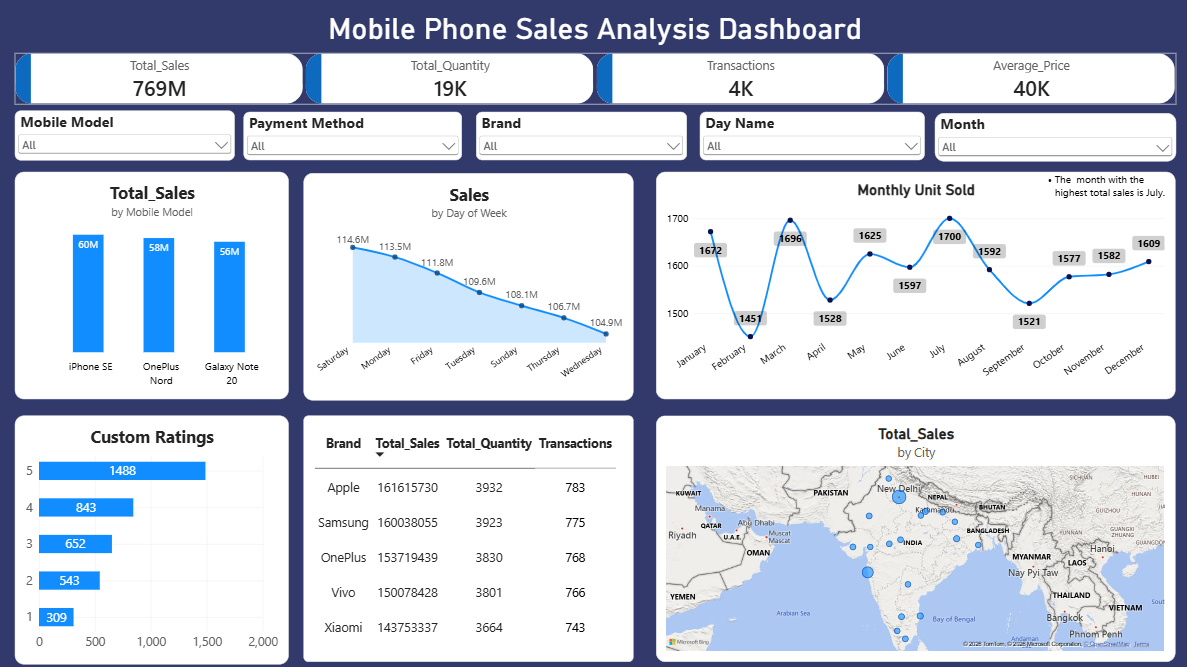

What the dashboard file says about the page in this screenshot:
{"tool":"powerbi","page":{"name":"Page 3","canvas":[1920,1080],"ordinal":2},"visuals":[{"type":"shape","box":[22.4,24.4,341.4,1042.5],"z":0},{"type":"advancedSlicerVisual","fields":{"Values":["Sales_Data2.Date.Variation.Date Hierarchy.Month"]},"box":[34.5,44.7,317,1012],"z":1000},{"type":"cardVisual","fields":{"Data":["Sales_Data2.Total_Sales2","Sales_Data2.Total_Quantity","Sales_Data2.Transactions","Sales_Data2.Average_Price"]},"box":[402.4,24.4,1485.2,94.4],"z":2000},{"type":"lineChart","fields":{"Category":["Sales_Data2.Date.Variation.Date Hierarchy.Month"],"Y":["Sales_Data2.Total_Quantity"]},"box":[1103.5,229.6,784.4,317],"z":3000},{"type":"clusteredColumnChart","title":"Total_Sales","fields":{"Category":["Sales_Data2.Mobile Model"],"Y":["Sales_Data2.Total_Sales2"]},"box":[1489.6,575.1,398.3,223.5],"z":4000},{"type":"pieChart","fields":{"Category":["Sales_Data2.Payment Method"],"Y":["Sales_Data2.Transactions"]},"box":[1103.5,575.1,367.8,223.5],"z":5000},{"type":"clusteredBarChart","title":"Custom Ratings","fields":{"Category":["Sales_Data2.Customer Ratings"],"Y":["CountNonNull(Sales_Data2.Customer Ratings)"]},"box":[1103.7,818.5,368.5,248.1],"z":5001},{"type":"areaChart","title":"Total_Sales","fields":{"Category":["Sales_Data2.Day Name"],"Y":["Sales_Data2.Total_Sales2"]},"box":[1488.9,818.5,398.1,248.1],"z":5002},{"type":"tableEx","fields":{"Values":["Sales_Data2.Brand","Sales_Data2.Total_Sales2","Sales_Data2.Total_Quantity","Sales_Data2.Transactions"]},"box":[401.9,818.5,670.4,248.1],"z":5003},{"type":"slicer","fields":{"Values":["Sales_Data2.Mobile Model"]},"box":[402.4,138.2,367.8,63],"z":5004},{"type":"slicer","fields":{"Values":["Sales_Data2.Payment Method"]},"box":[784.4,140.2,359.7,61],"z":5005},{"type":"slicer","fields":{"Values":["Sales_Data2.Brand"]},"box":[1160.4,142.3,355.6,61],"z":5006},{"type":"slicer","fields":{"Values":["Sales_Data2.Day Name"]},"box":[1530.2,142.3,357.4,61.1],"z":5007},{"type":"map","title":"Total_Sales","fields":{"Category":["Sales_Data2.City"],"Size":["Sales_Data2.Total_Sales2"]},"box":[402.4,229.6,670.6,571],"z":5008}]}

Visuals, with their boxes in screenshot pixels (x1, y1, x2, y2), scaled from the page's 1920x1080 canvas onto the 1187x667 screenshot:
shape: Rect(14, 15, 225, 659)
advancedSlicerVisual - Sales_Data2.Date.Variation.Date Hierarchy.Month: Rect(21, 28, 217, 653)
cardVisual - Sales_Data2.Total_Sales2 x Sales_Data2.Total_Quantity: Rect(249, 15, 1167, 73)
lineChart - Sales_Data2.Date.Variation.Date Hierarchy.Month x Sales_Data2.Total_Quantity: Rect(682, 142, 1167, 338)
"Total_Sales" clusteredColumnChart: Rect(921, 355, 1167, 493)
pieChart - Sales_Data2.Payment Method x Sales_Data2.Transactions: Rect(682, 355, 910, 493)
"Custom Ratings" clusteredBarChart: Rect(682, 505, 910, 659)
"Total_Sales" areaChart: Rect(920, 505, 1167, 659)
tableEx - Sales_Data2.Brand x Sales_Data2.Total_Sales2: Rect(248, 505, 663, 659)
slicer - Sales_Data2.Mobile Model: Rect(249, 85, 476, 124)
slicer - Sales_Data2.Payment Method: Rect(485, 87, 707, 124)
slicer - Sales_Data2.Brand: Rect(717, 88, 937, 126)
slicer - Sales_Data2.Day Name: Rect(946, 88, 1167, 126)
"Total_Sales" map: Rect(249, 142, 663, 494)
